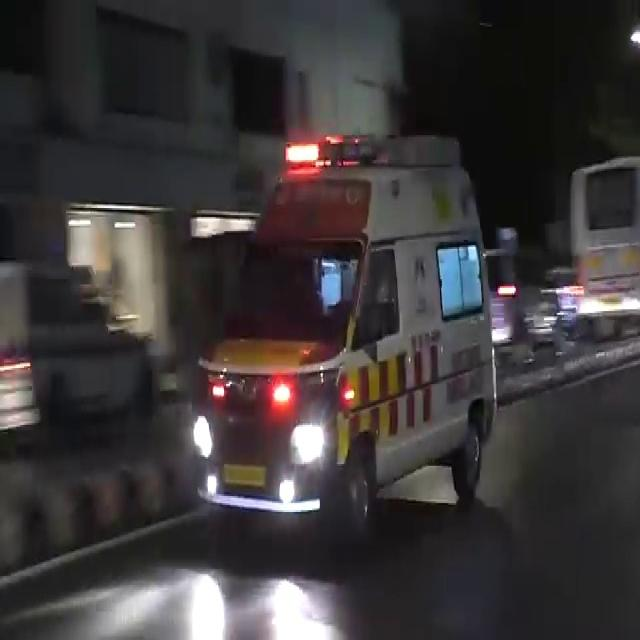ambulance: (192, 153, 507, 502)
